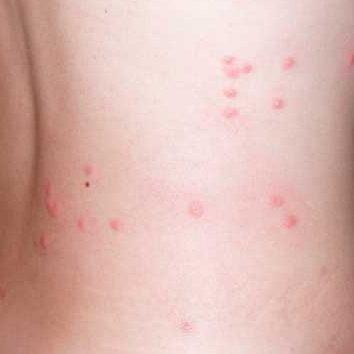Fleas: (30, 180, 74, 225), (266, 190, 301, 232), (219, 56, 253, 82), (25, 225, 53, 256), (70, 159, 101, 186), (186, 198, 214, 221), (222, 87, 239, 120), (104, 214, 133, 231), (266, 94, 287, 115), (174, 317, 197, 336), (343, 45, 353, 73), (279, 55, 296, 70), (72, 217, 89, 232)
